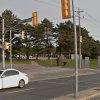Car: (1, 61, 31, 91)
